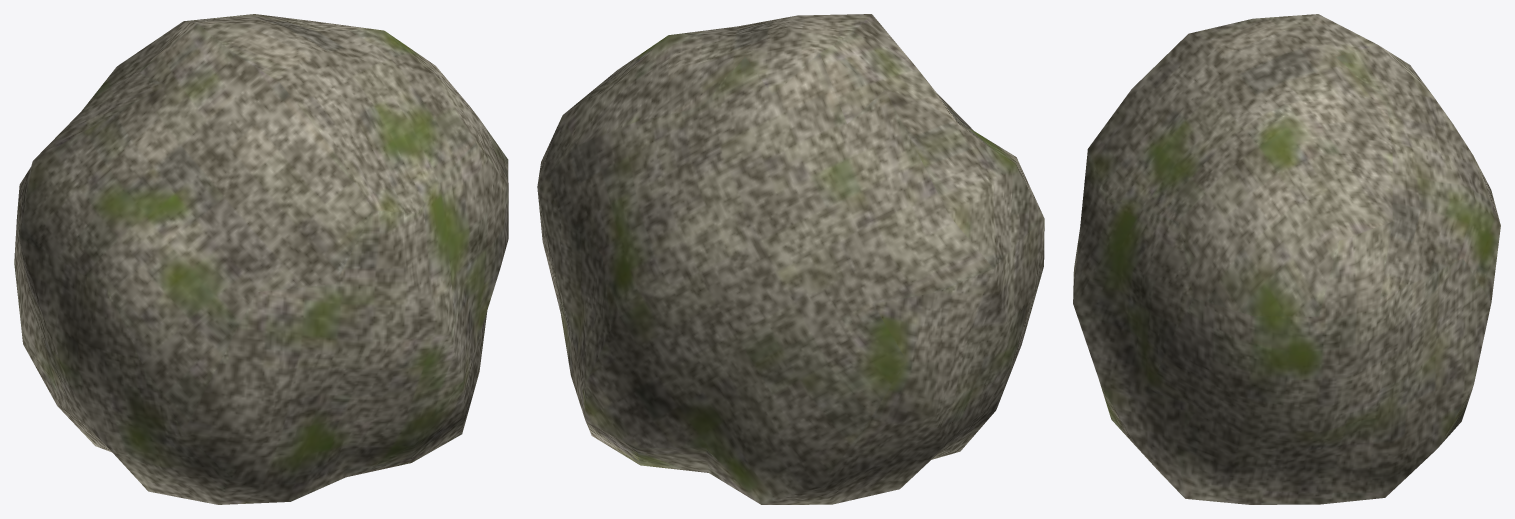
Rendered from Granite_Boulder.glb.
3 renders of one model, left to right at view 1: azimuth 30°, elevation 25°; view 2: azimuth 150°, elevation 25°; view 3: azimuth 270°, elevation 25°, orthographic. The views are drawn at different scales.
Parts seen in each view (by area): view 1: Granite_Boulder; view 2: Granite_Boulder; view 3: Granite_Boulder.
Boxes of the visible parts, x1,y1,x2,y2 form: Granite_Boulder: [14, 14, 508, 504]; Granite_Boulder: [537, 14, 1044, 504]; Granite_Boulder: [1073, 14, 1500, 504].
Bounding box in the file's own units: 1.04 × 0.893 × 0.873.
Materials: 1 (1 with a texture image).
